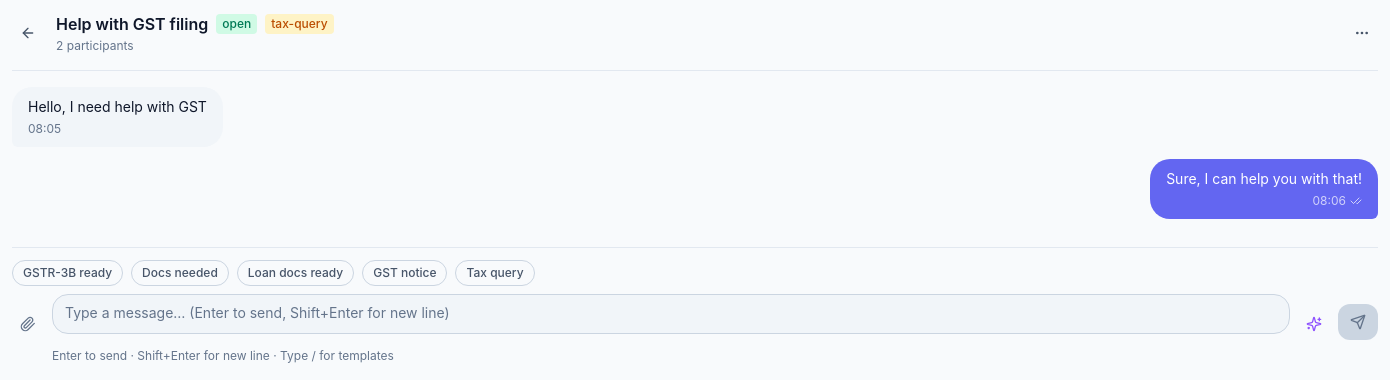
Scenario: ChatThreadDetailPage › actions menu contains Resolve and Escalate for open thread
The image size is (1390, 380).
Step 1. Click the button named "Actions" → {"x": 1362, "y": 33}, box x1=1346 y1=17 x2=1378 y2=49
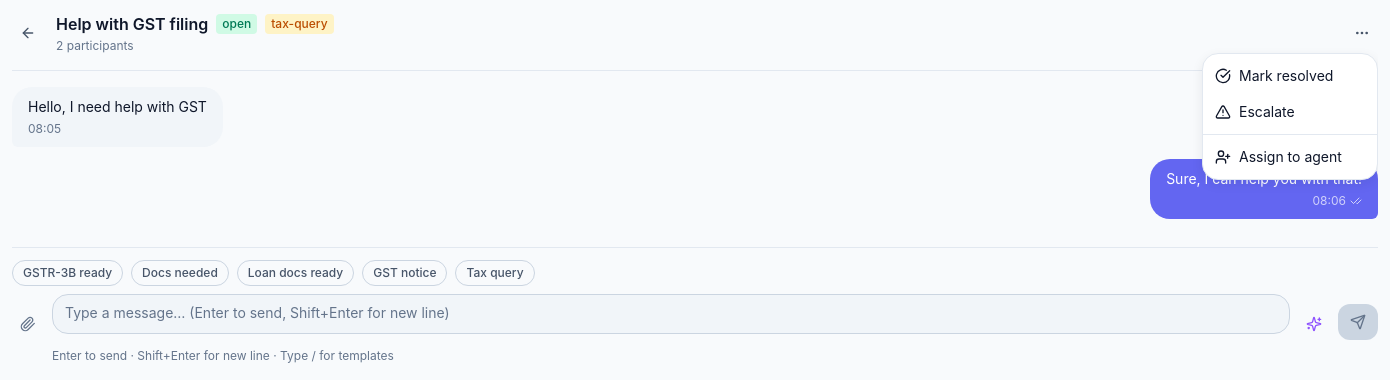
Expected: the menu item "Mark resolved" is shown, x1=1203 y1=58 x2=1377 y2=94
Expected: the menu item "Escalate" is shown, x1=1203 y1=94 x2=1377 y2=130
